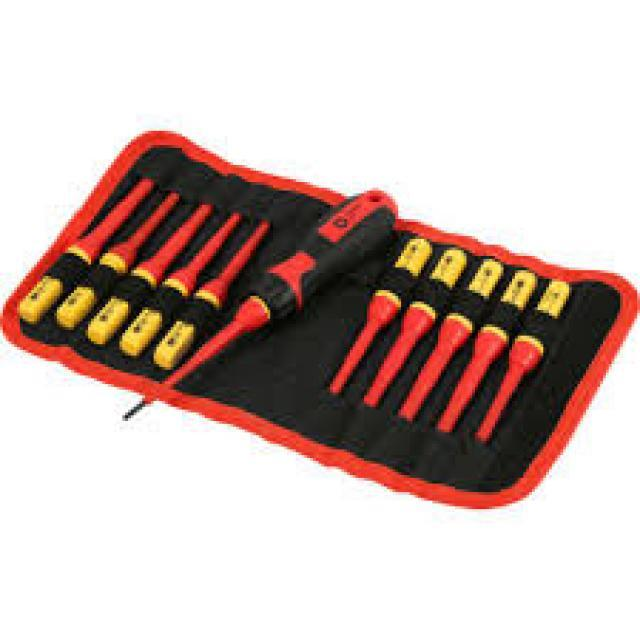screwdriver: (112, 174, 406, 426)
